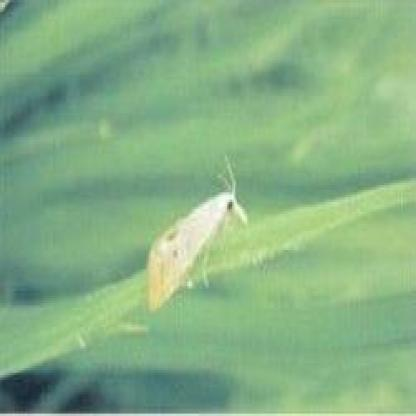stem-borer: (146, 156, 250, 315)
